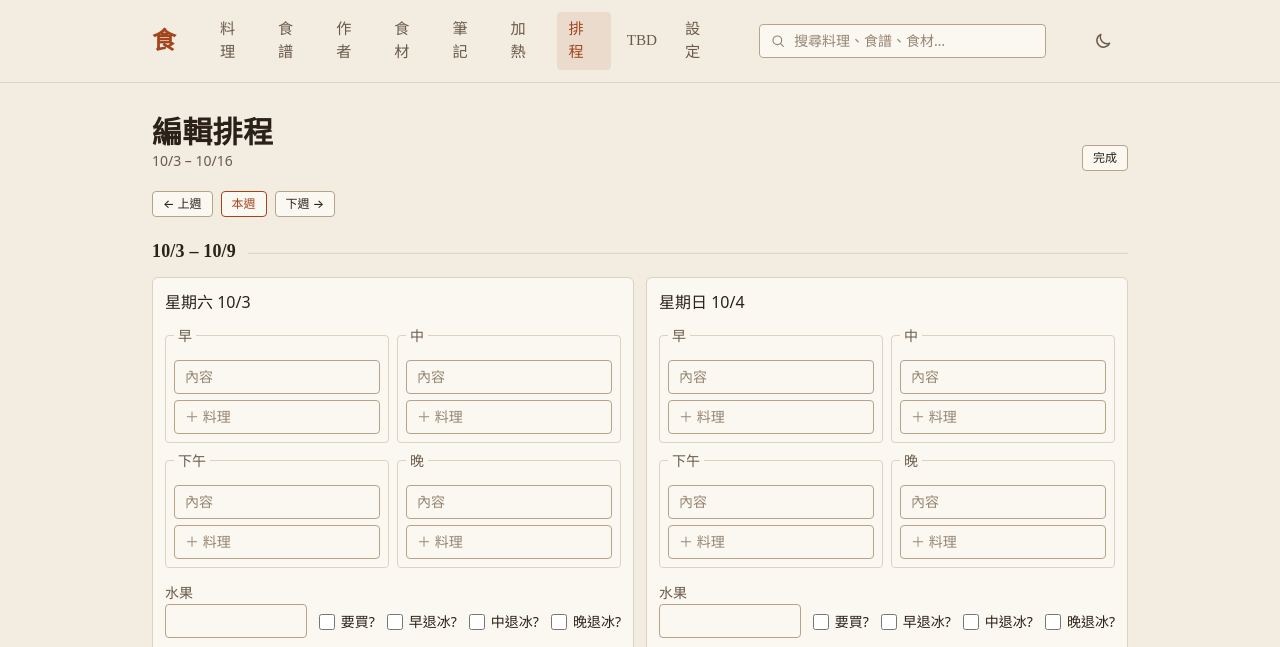
it: the schedule edit page › refuses to save a dish typed but not picked, and sends nothing
This screenshot has width=1280, height=647.
Type "咖" into the dropdown named "中 加料理" at [1003, 417], box x1=900 y1=400 x2=1106 y2=434
(page scrolled)
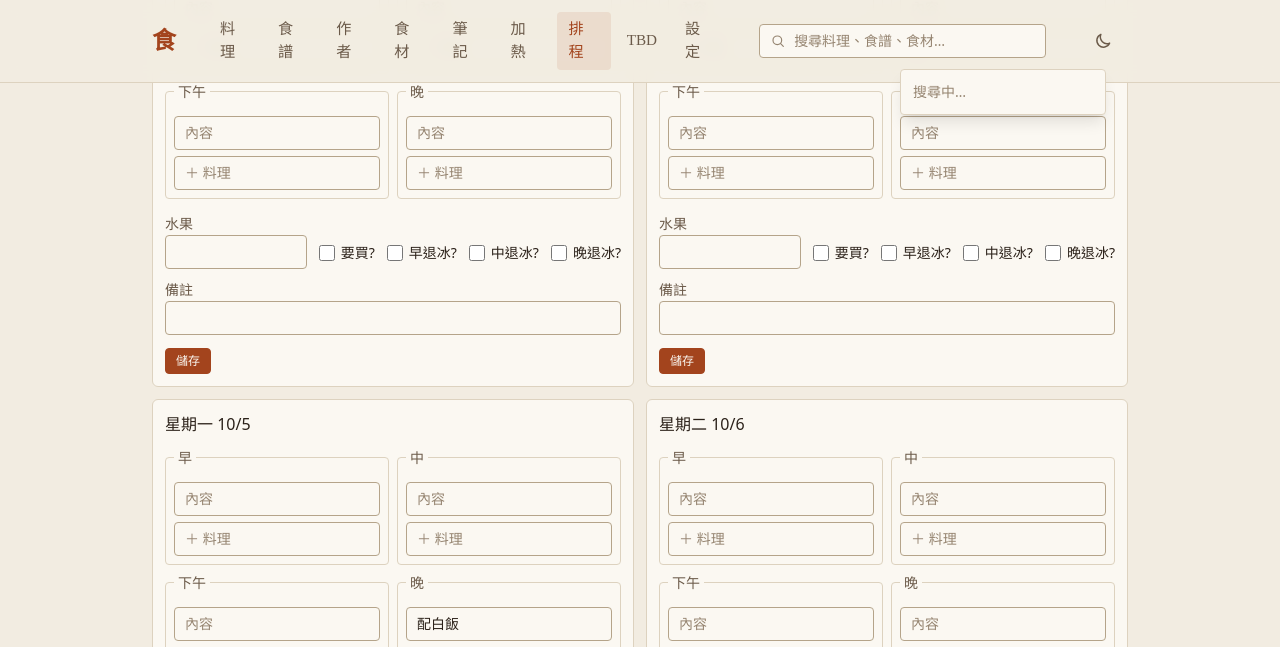
Click the button "儲存" below "搜尋中…" at [682, 361], box x1=659 y1=348 x2=705 y2=374
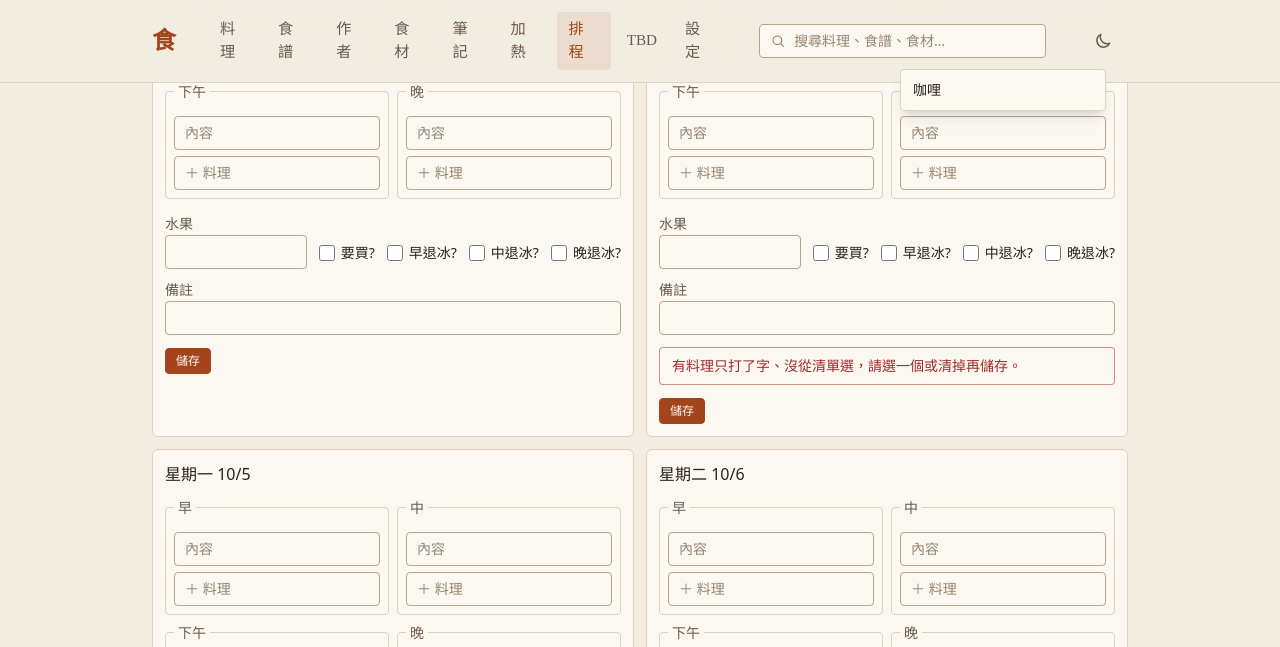
Check: the message "有料理只打了字、沒從清單選，請選一個或清掉再儲存。" is shown, box x1=659 y1=347 x2=1115 y2=385
